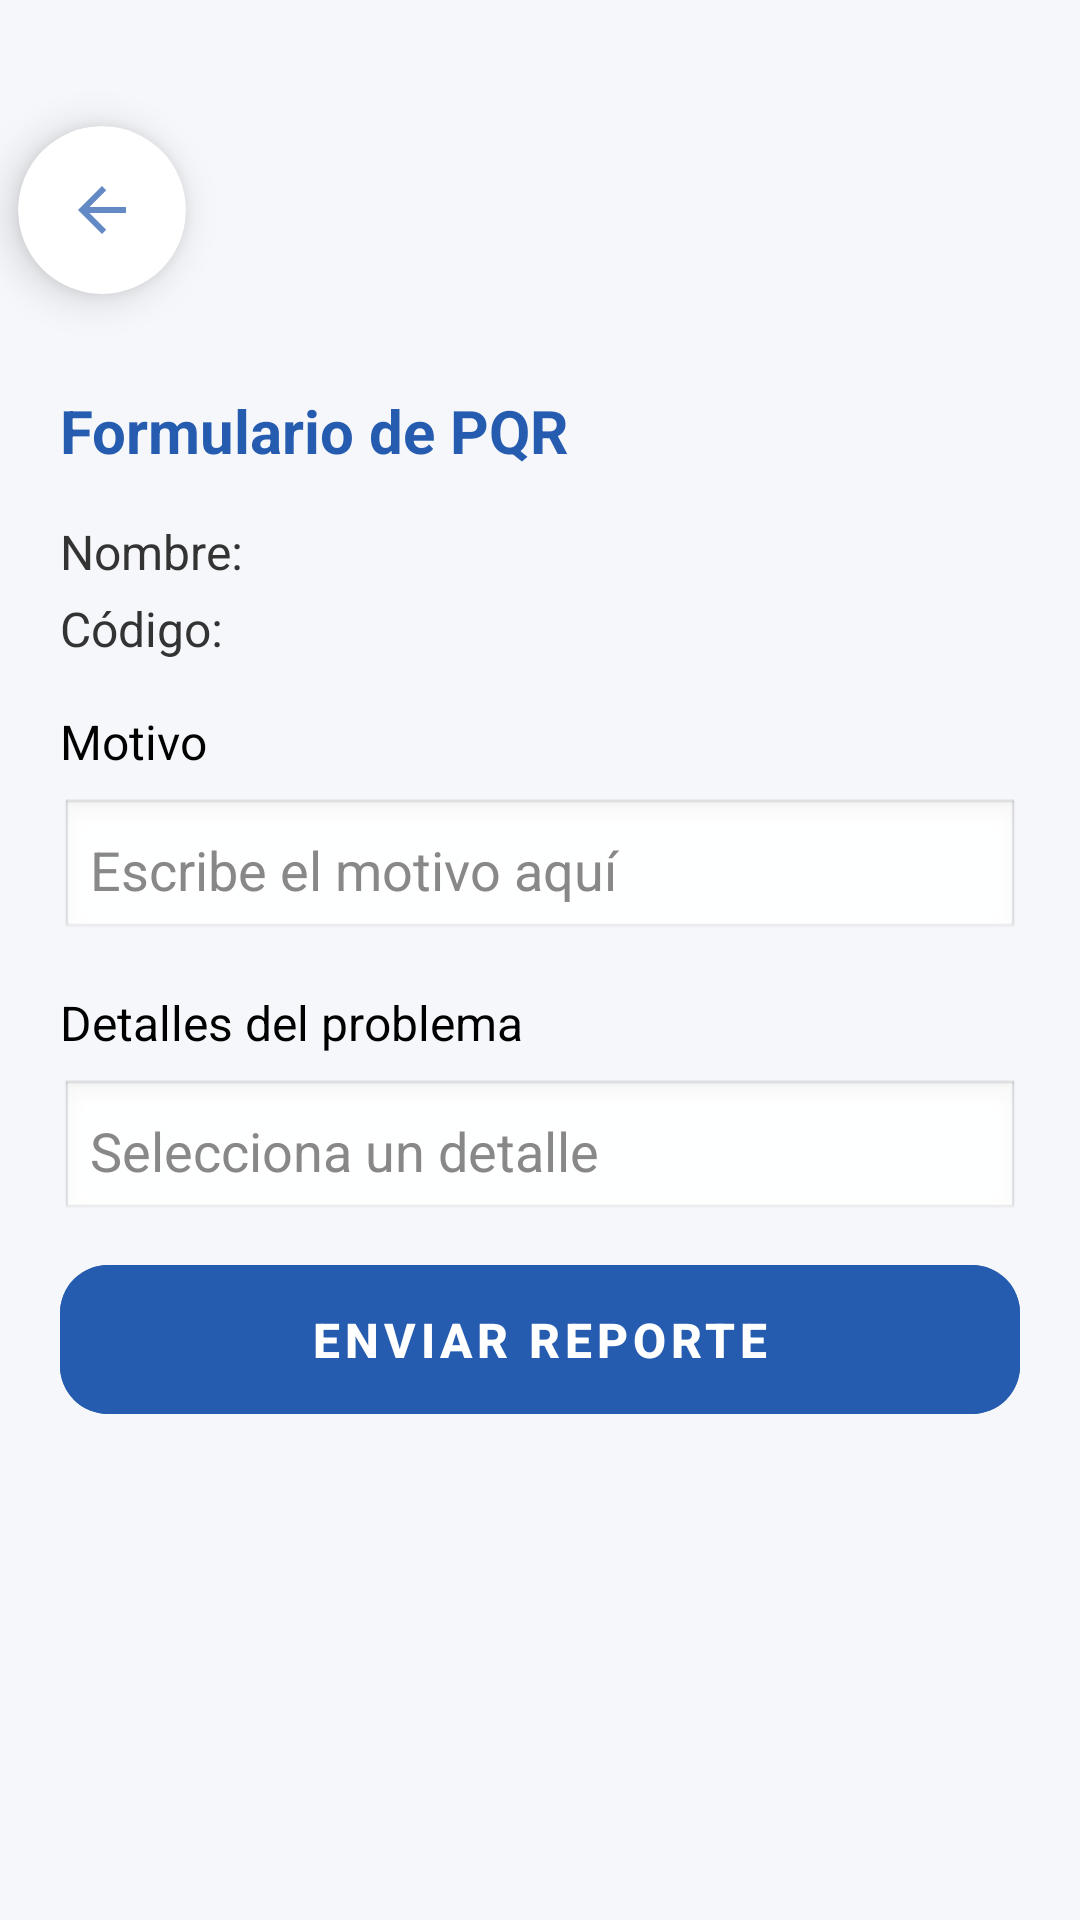

Point at icon controls on the screen. Image size 1080px×1920px, points as (x,y).
Atrás: (102,210)
